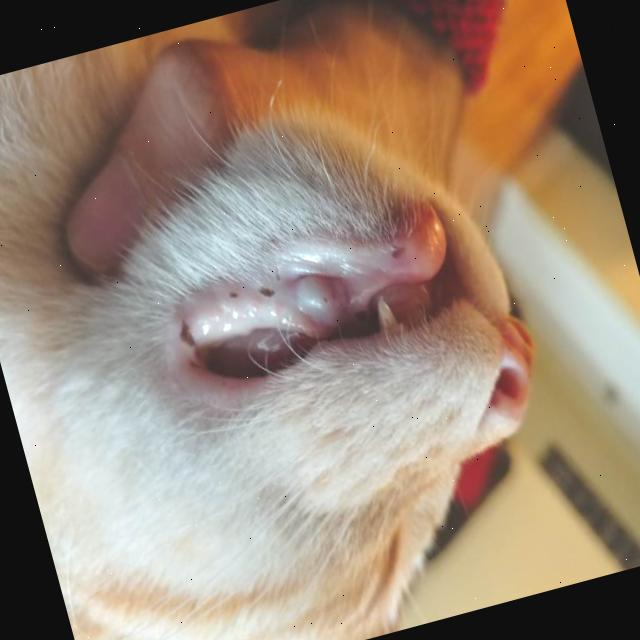cat-lump-and-bump: (282, 262, 352, 332)
